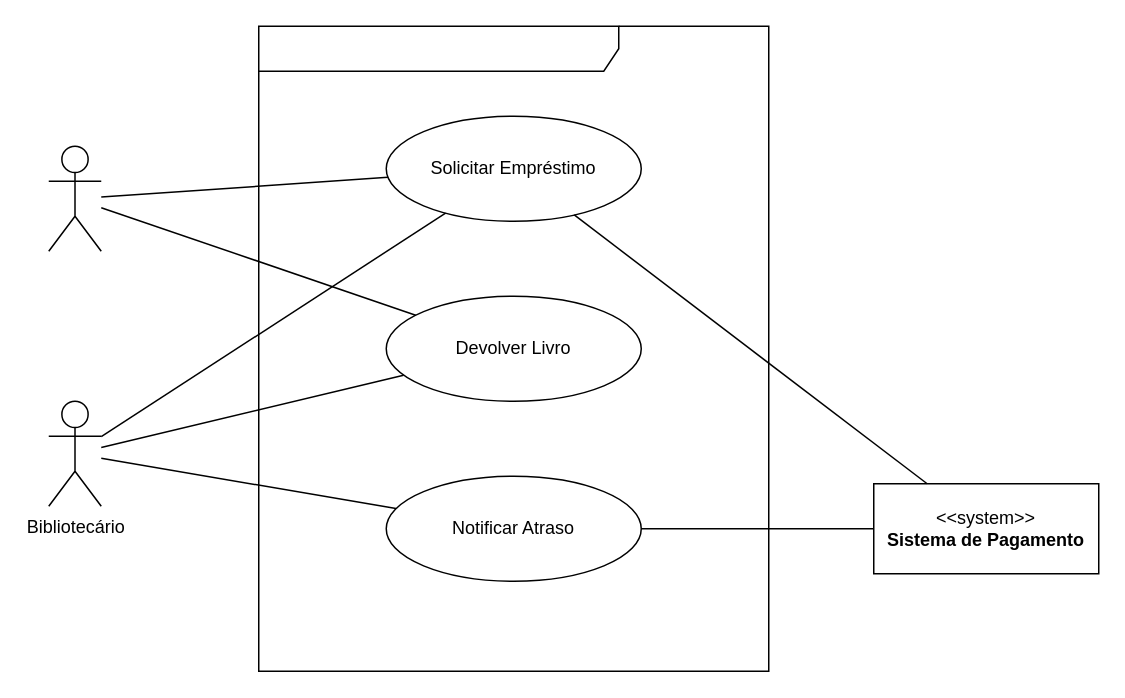
The diagram is 1125 pixels wide and 698 high, and some of its shapes have lost their labels. The box of each missing label's shape, as (x1, y1, x2, y2) in pixels:
Aluno: (47, 145, 101, 251)
Sistema de Empréstimo de Biblioteca: (257, 25, 769, 671)
